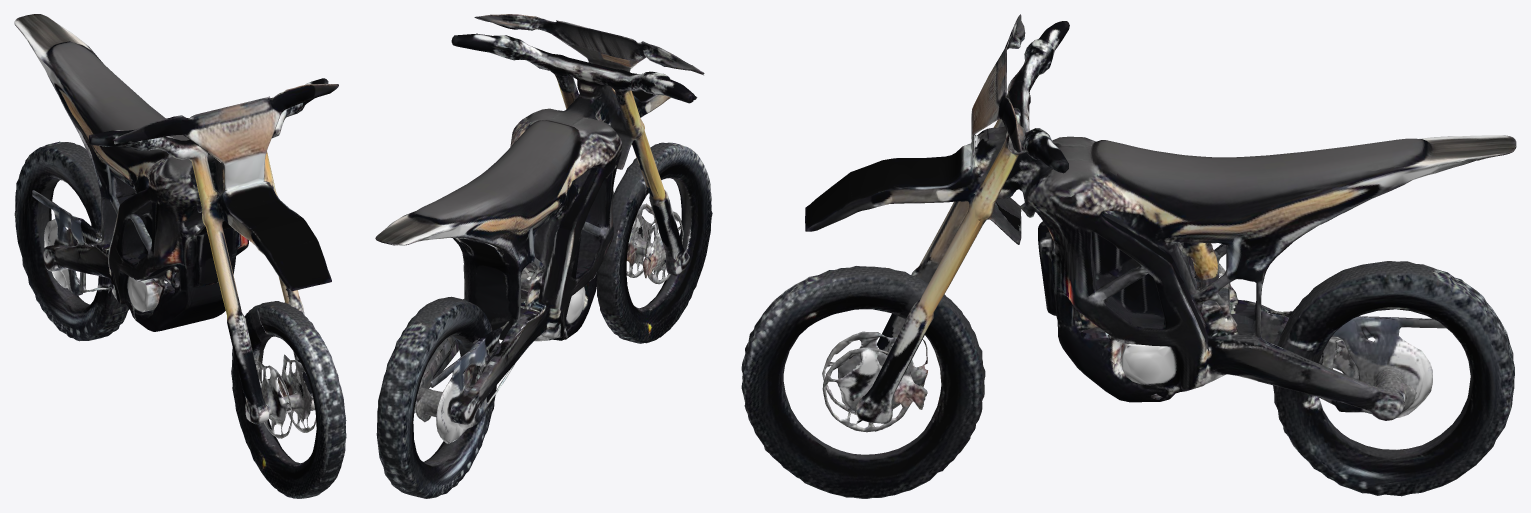
The model's file is rob_ultrabee.glb.
The picture shows the model from 3 angles, left to right: view 1: azimuth 30°, elevation 25°; view 2: azimuth 150°, elevation 25°; view 3: azimuth 270°, elevation 25°; orthographic projection. The views are drawn at different scales.
Parts seen in each view (by area): view 1: body, fork_bars, wheel_F, wheel_R; view 2: body, wheel_R, fork_bars, wheel_F; view 3: body, wheel_R, wheel_F, fork_bars.
Part boxes in pixels (x1,y1,x2,y2): body: [14, 14, 331, 331]; fork_bars: [89, 78, 338, 438]; wheel_F: [231, 301, 346, 498]; wheel_R: [14, 142, 129, 341]; body: [375, 37, 697, 434]; wheel_R: [376, 296, 496, 498]; fork_bars: [452, 14, 704, 284]; wheel_F: [596, 142, 712, 343]; body: [805, 22, 1516, 420]; wheel_R: [1273, 261, 1514, 496]; wheel_F: [741, 266, 985, 498]; fork_bars: [822, 14, 1069, 423].
Size of the model in its own units: 1.03 by 1.42 by 2.33.
Materials: 1 (1 with a texture image).
